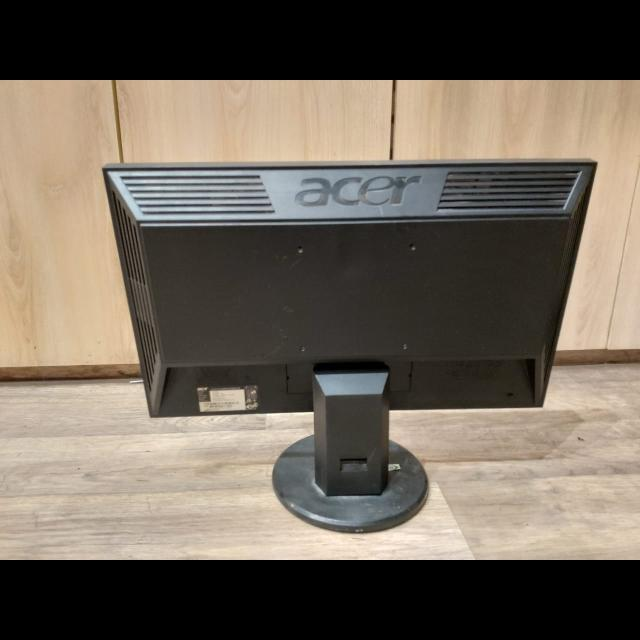Flat-Panel-Monitor: (100, 158, 606, 444)
